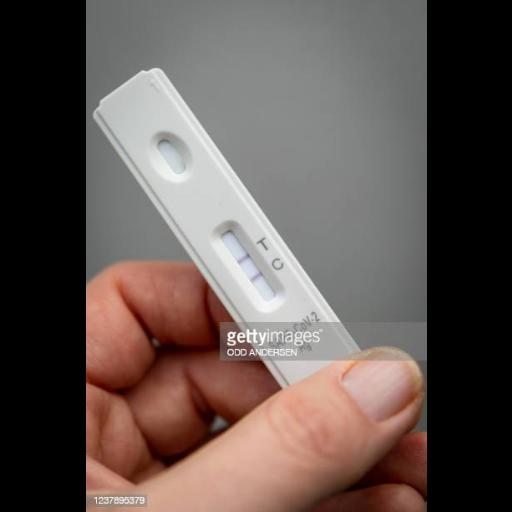Pos: (91, 62, 351, 389)
